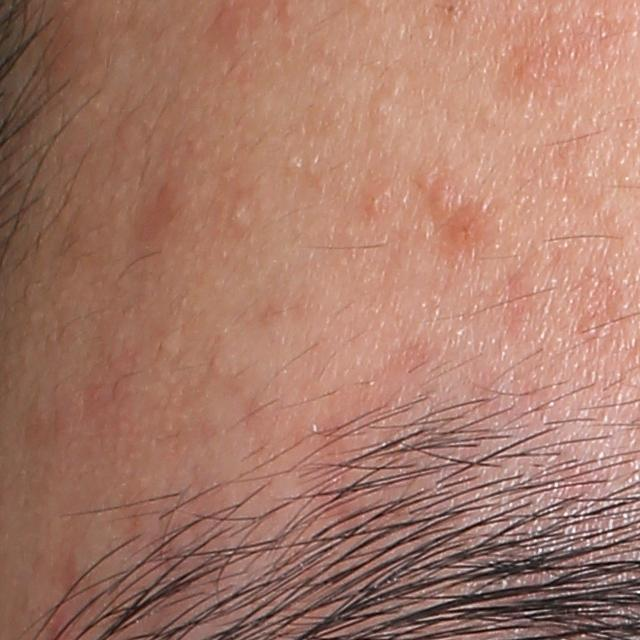comedo: (223, 196, 250, 228), (368, 98, 395, 121), (441, 2, 465, 20), (285, 154, 305, 174)
papule: (360, 186, 390, 215)
